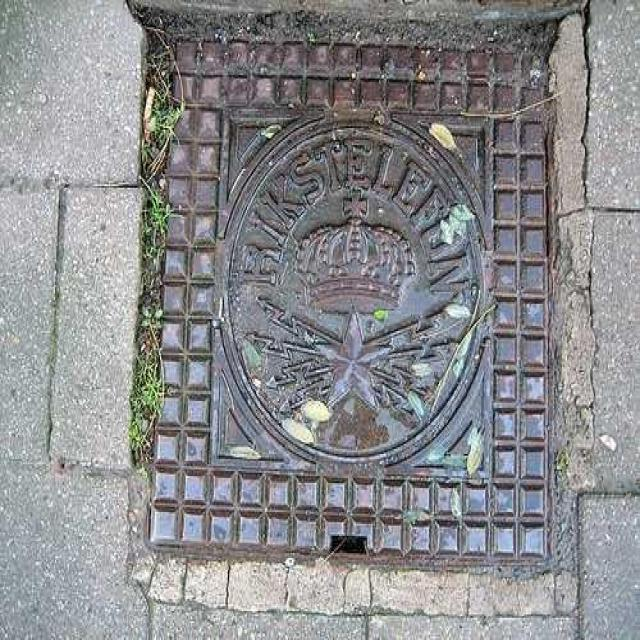manhole: (222, 118, 494, 464)
